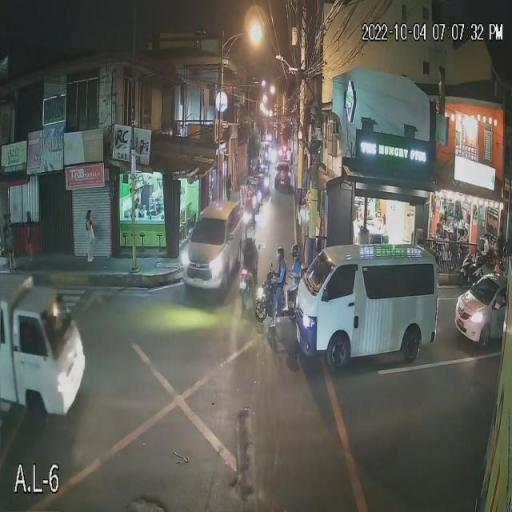helmet: (243, 228, 256, 248), (276, 248, 285, 263), (290, 246, 299, 260)
motorcycle: (259, 274, 298, 320), (238, 264, 259, 307)
rider: (286, 248, 301, 296), (242, 231, 257, 274), (272, 248, 284, 300)
